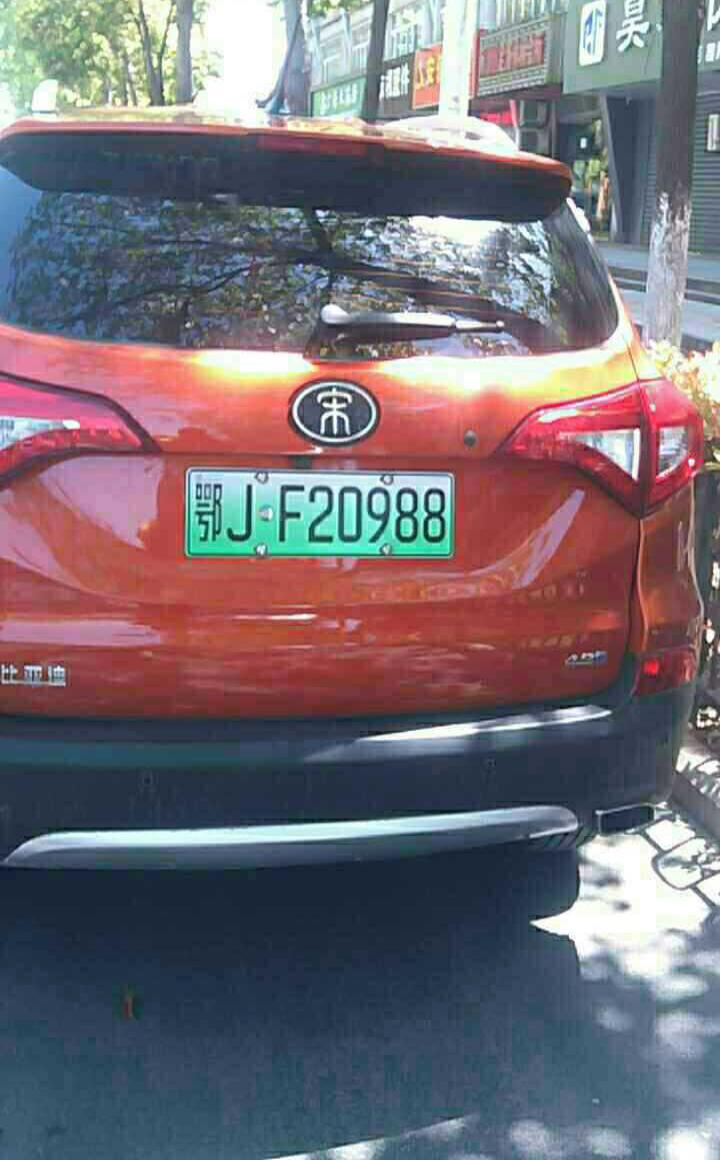car_id: (183, 469, 453, 553)
